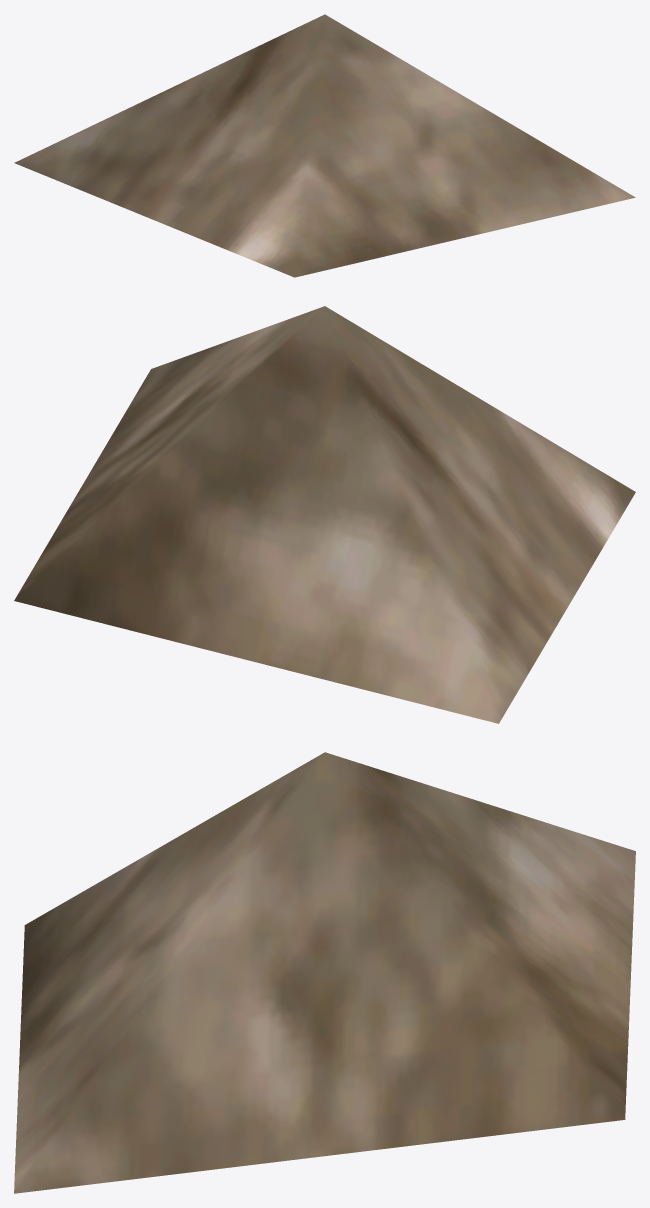
Rendered from OVERHILL_A_01_PLANE15.fbx.
3 renders of one model, top to bottom at view 1: azimuth 30°, elevation 25°; view 2: azimuth 150°, elevation 25°; view 3: azimuth 270°, elevation 25°, orthographic. The views are drawn at different scales.
Parts seen in each view (by area): view 1: OVERHILL_A_01_PLANE15; view 2: OVERHILL_A_01_PLANE15; view 3: OVERHILL_A_01_PLANE15.
Boxes of the visible parts, x1,y1,x2,y2 form: OVERHILL_A_01_PLANE15: [14, 14, 635, 277]; OVERHILL_A_01_PLANE15: [14, 306, 635, 723]; OVERHILL_A_01_PLANE15: [14, 752, 635, 1193].
Bounding box in the file's own units: 1263 × 465 × 969.
1 material, 1 textured.
